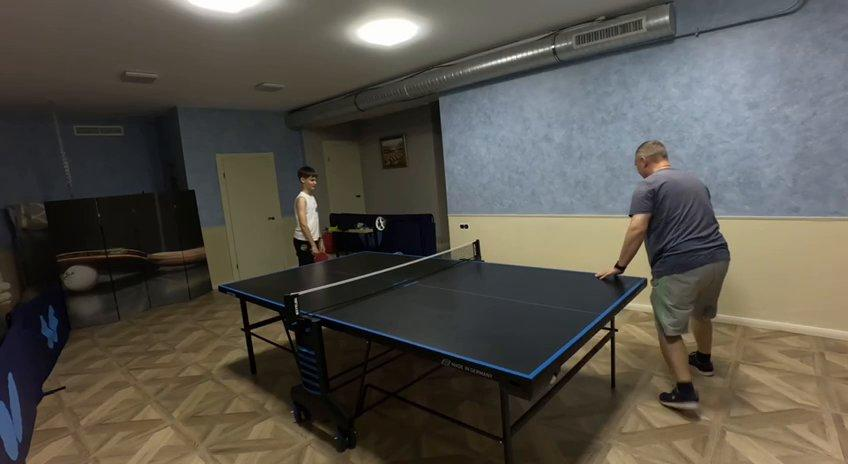Net: (285, 241, 482, 323)
Player1: (293, 166, 325, 265)
Player2: (626, 141, 729, 404)
Table: (219, 251, 645, 376)
